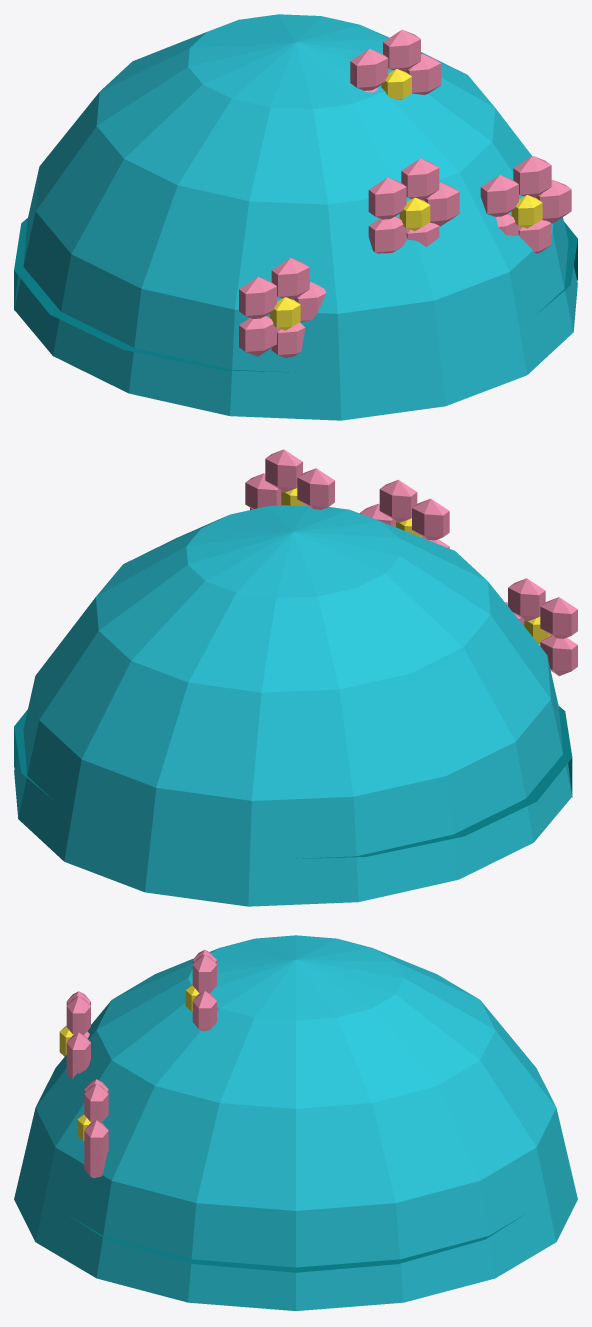
File: badmossa.glb
3 renders of one model, top to bottom at view 1: azimuth 30°, elevation 25°; view 2: azimuth 150°, elevation 25°; view 3: azimuth 270°, elevation 25°, orthographic. The views are drawn at different scales.
Visible parts, largest first — view 1: badmossa; view 2: badmossa; view 3: badmossa.
Boxes of the visible parts, bbox=[...] form: badmossa: bbox=[14, 14, 577, 420]; badmossa: bbox=[14, 449, 577, 906]; badmossa: bbox=[14, 935, 577, 1310].
Bounding box in the file's own units: 0.304 × 0.1701 × 0.32.
